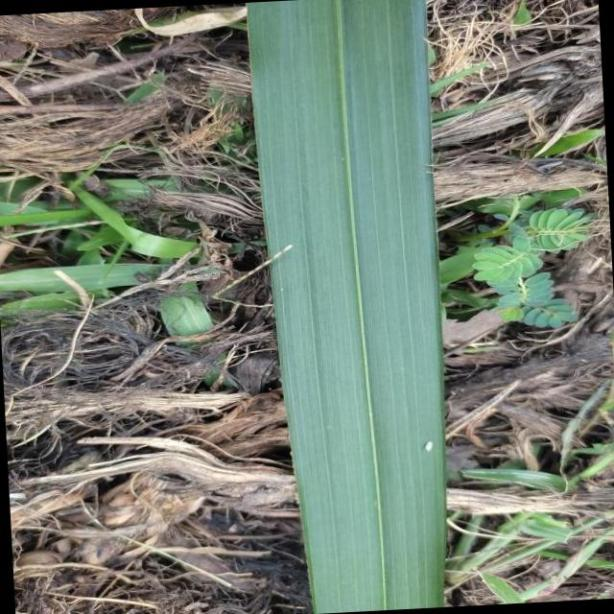Healthy: (245, 0, 448, 614)
